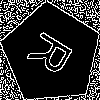R: (26, 28, 82, 83)
